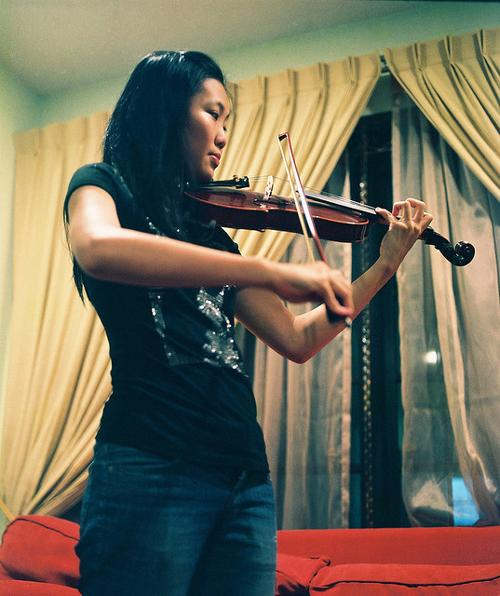person: (64, 50, 434, 596)
